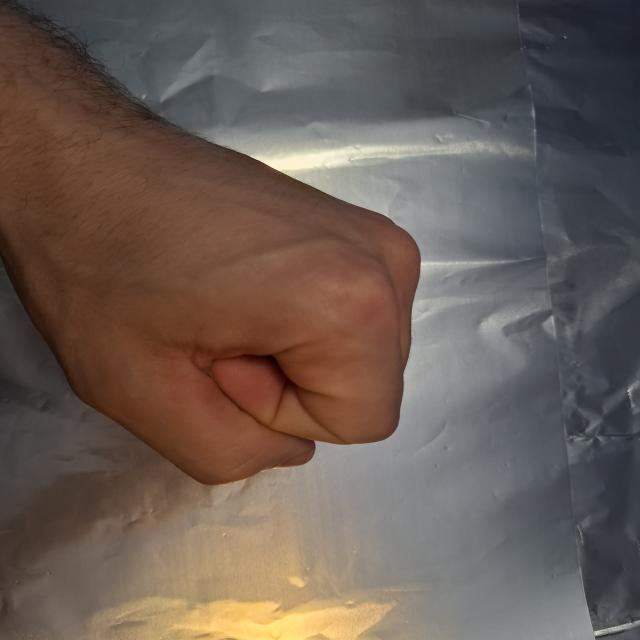glove_off: (0, 113, 424, 487)
